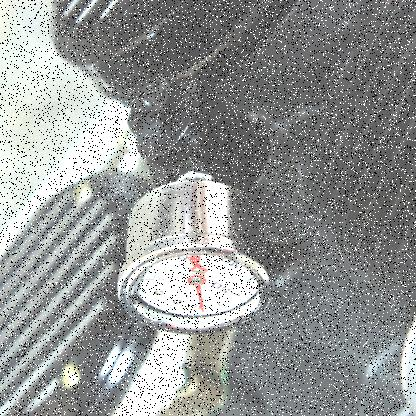needle: (195, 286, 204, 314)
